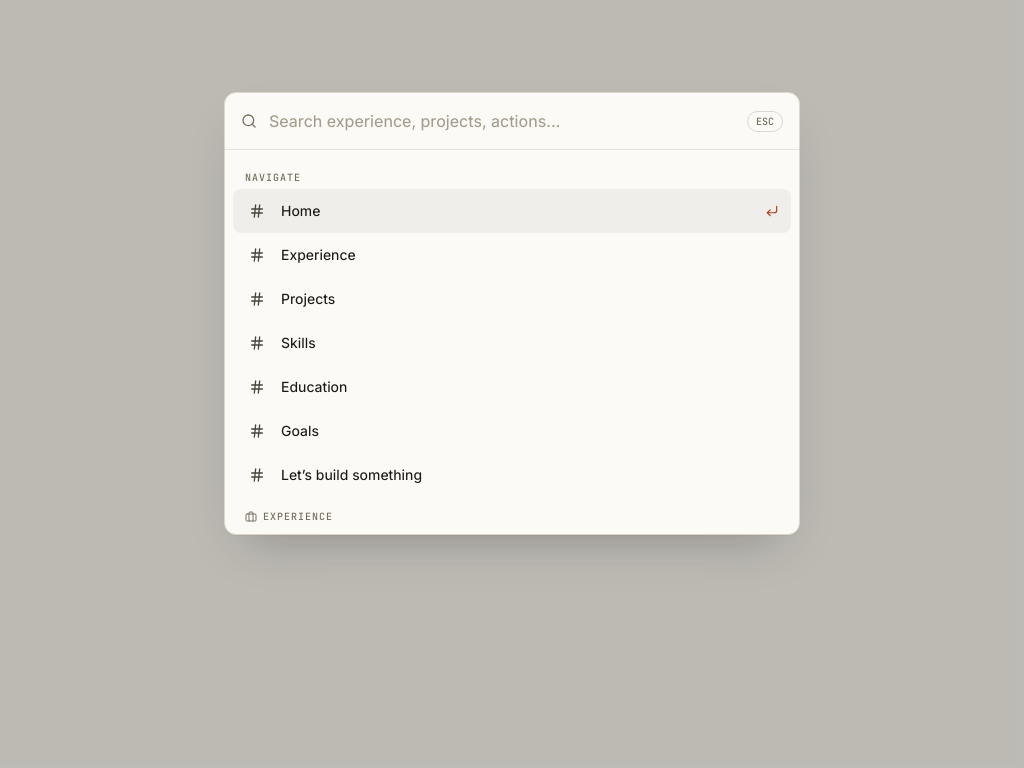
<CommandPalette /> › shows an empty state
Type "zzzz" into the dropdown at (502, 121), box [269,93,735,149]
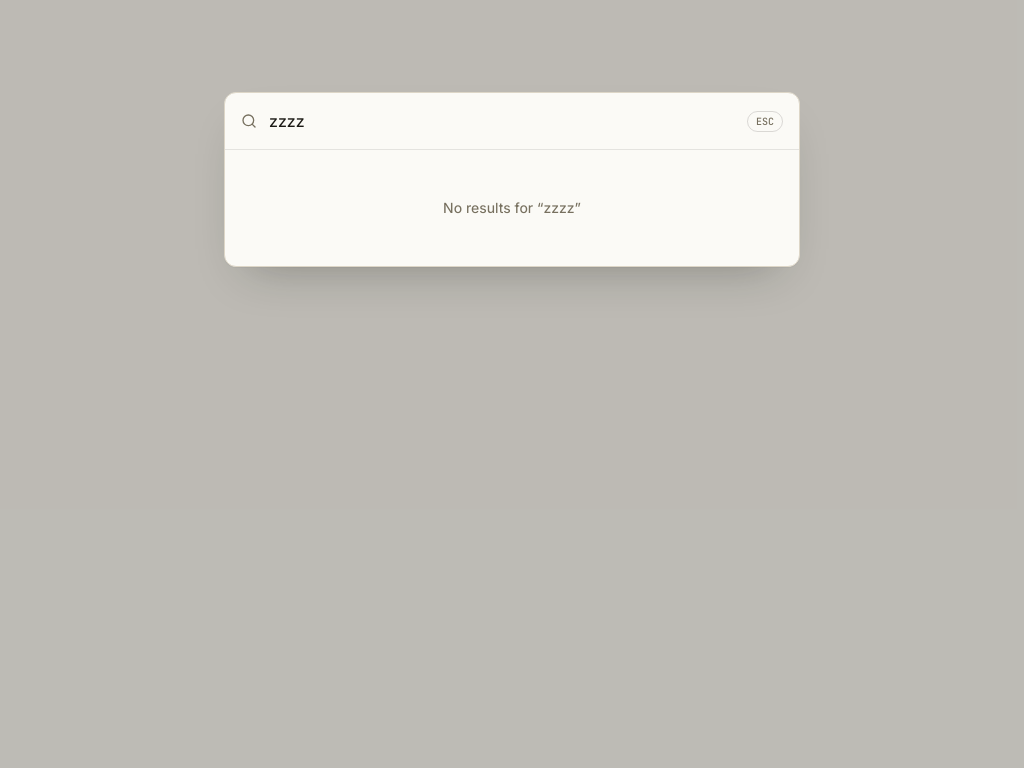
Expected: the list item "No results for “zzzz”" is shown, [443,199,581,216]
